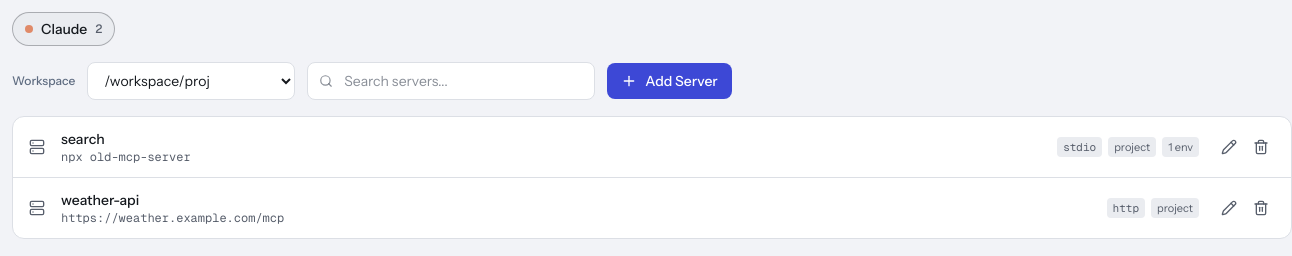
Test case: McpPage server search › shows an empty state when no server matches
Expected: the text "search" is shown, [61,130,105,148]
In the field labelled "Search servers": (451, 81) [307,62,595,100], type "nonexistent"
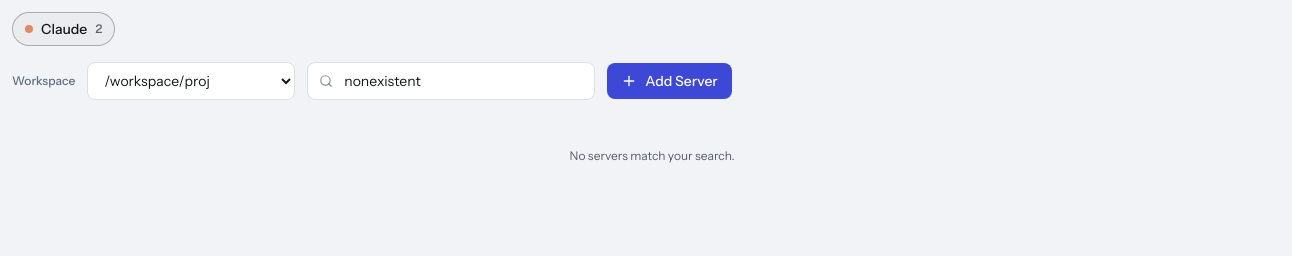
Result: the text "No servers match your search." is shown at [570,148,734,164]
